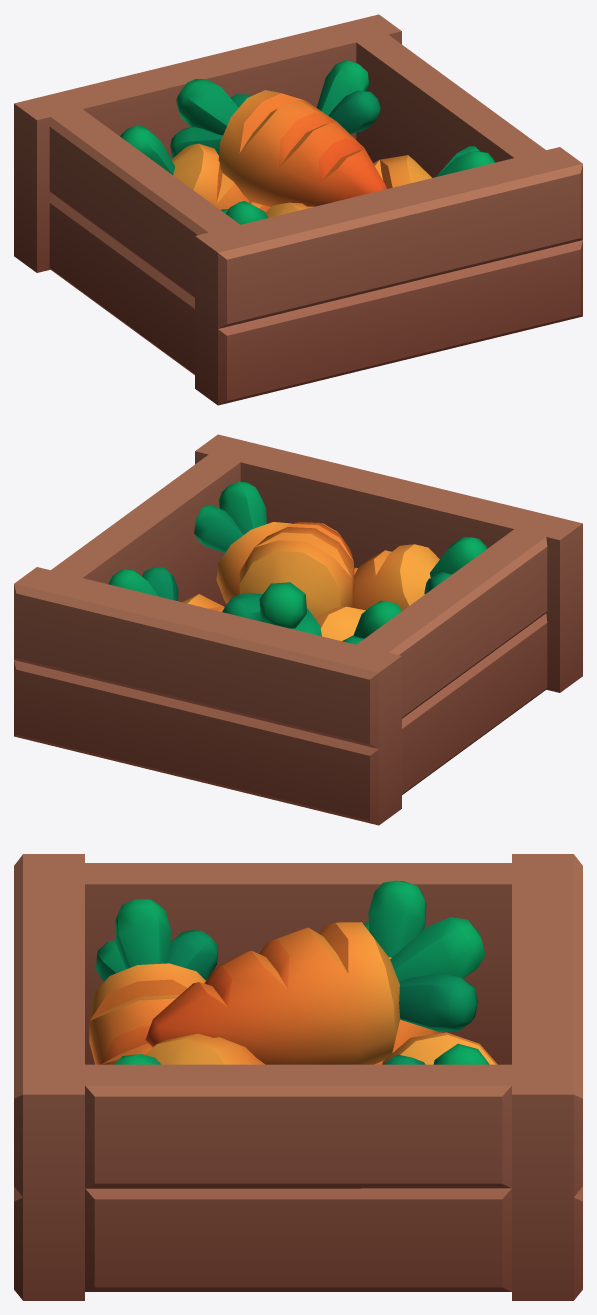
The model's file is kay-crate_carrots.glb.
3 views of the same model, one above another, from view 1: azimuth 30°, elevation 25°; view 2: azimuth 150°, elevation 25°; view 3: azimuth 270°, elevation 25° (orthographic). The views are drawn at different scales.
Visible parts, largest first — view 1: crate_carrots; view 2: crate_carrots; view 3: crate_carrots.
Part boxes in pixels (<box>): crate_carrots: <box>14,14,582,405</box>; crate_carrots: <box>14,434,582,825</box>; crate_carrots: <box>14,854,582,1300</box>.
Size of the model in its own units: 0.6 by 0.283 by 0.6.
Materials: 1 (1 with a texture image).
